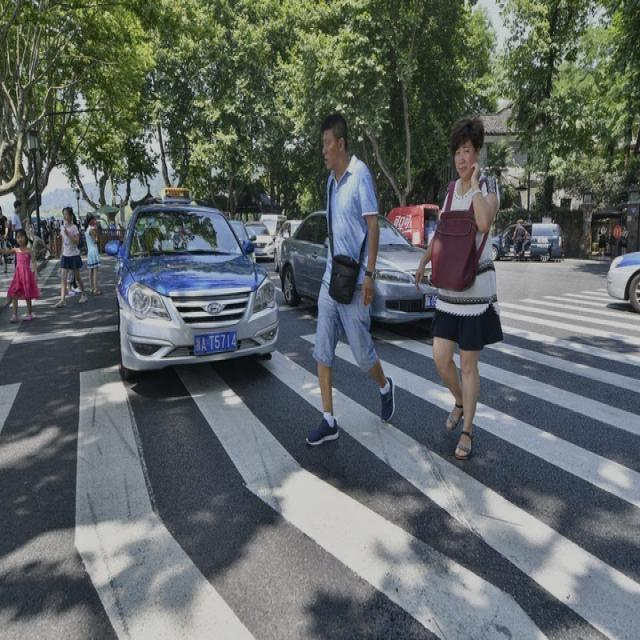non-fight: (419, 114, 502, 462), (318, 106, 385, 446), (3, 214, 38, 322), (59, 206, 85, 302), (83, 211, 106, 298)
